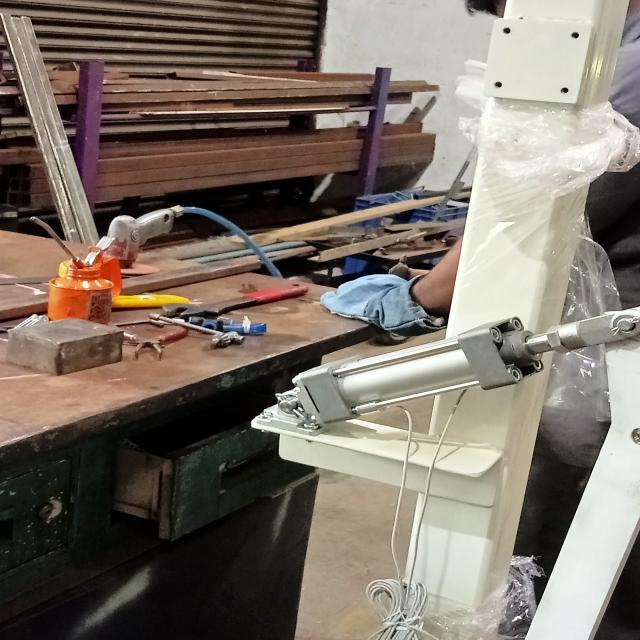Gloves-Detection: (324, 270, 434, 330)
